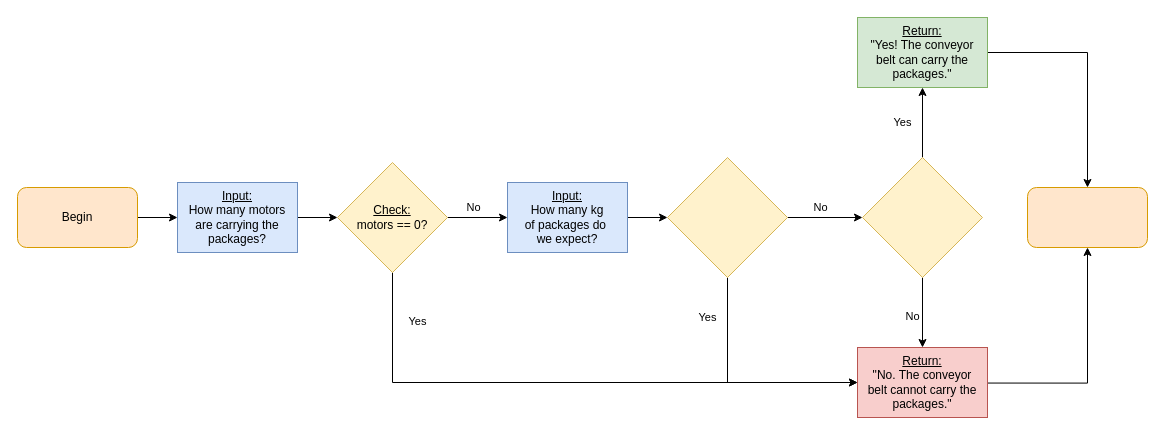
The diagram is 1165 pixels wide and 435 high, and some of its shapes have lost their labels. Each missing label, with the box of its shape:
Capacity check: kg ≤ 5.6 x motors: (862, 156, 982, 278)
Check: kg < 0?: (666, 156, 788, 278)
End: (1026, 186, 1148, 248)
